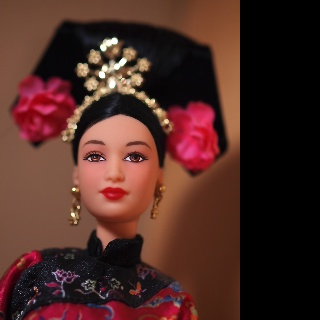without_mask: (77, 113, 159, 221)
